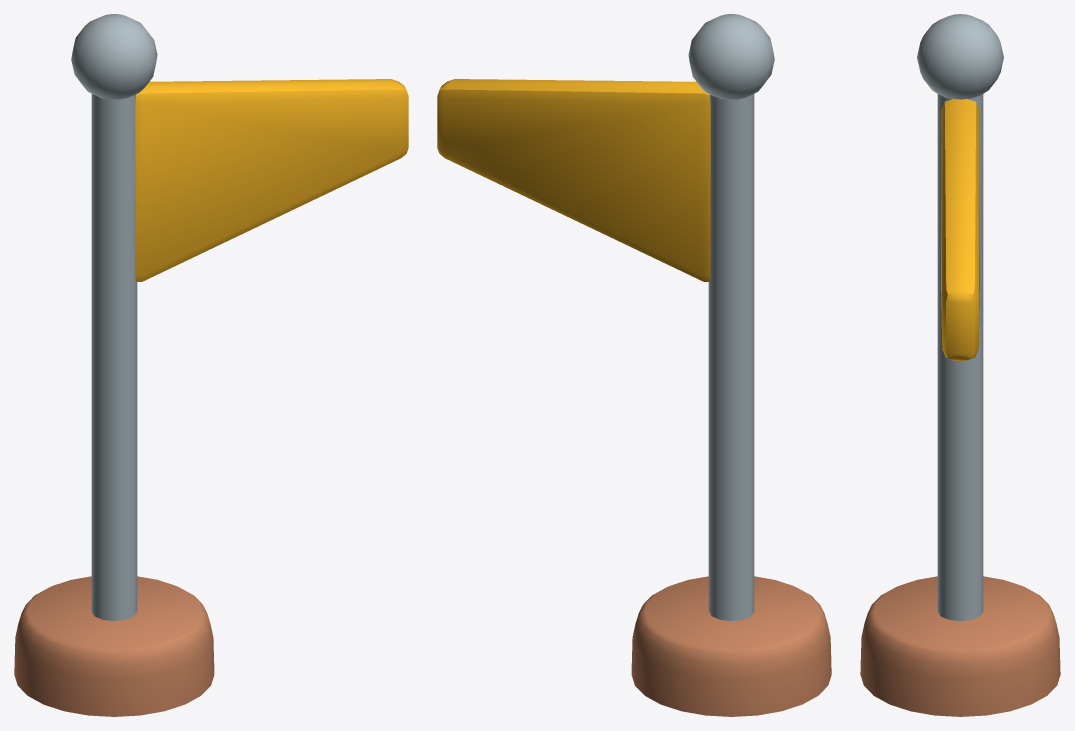
Rendered from flag_teamYellow-col.glb.
The picture shows the model from 3 angles, left to right: view 1: azimuth 30°, elevation 25°; view 2: azimuth 150°, elevation 25°; view 3: azimuth 270°, elevation 25°; orthographic projection.
Parts seen in each view (by area): view 1: flag_teamYellow-col; view 2: flag_teamYellow-col; view 3: flag_teamYellow-col.
Part boxes in pixels (bbox=[...]): flag_teamYellow-col: bbox=[14, 14, 408, 716]; flag_teamYellow-col: bbox=[437, 14, 831, 716]; flag_teamYellow-col: bbox=[860, 14, 1060, 716].
Bounding box in the file's own units: 1.2 × 2 × 0.5524.
